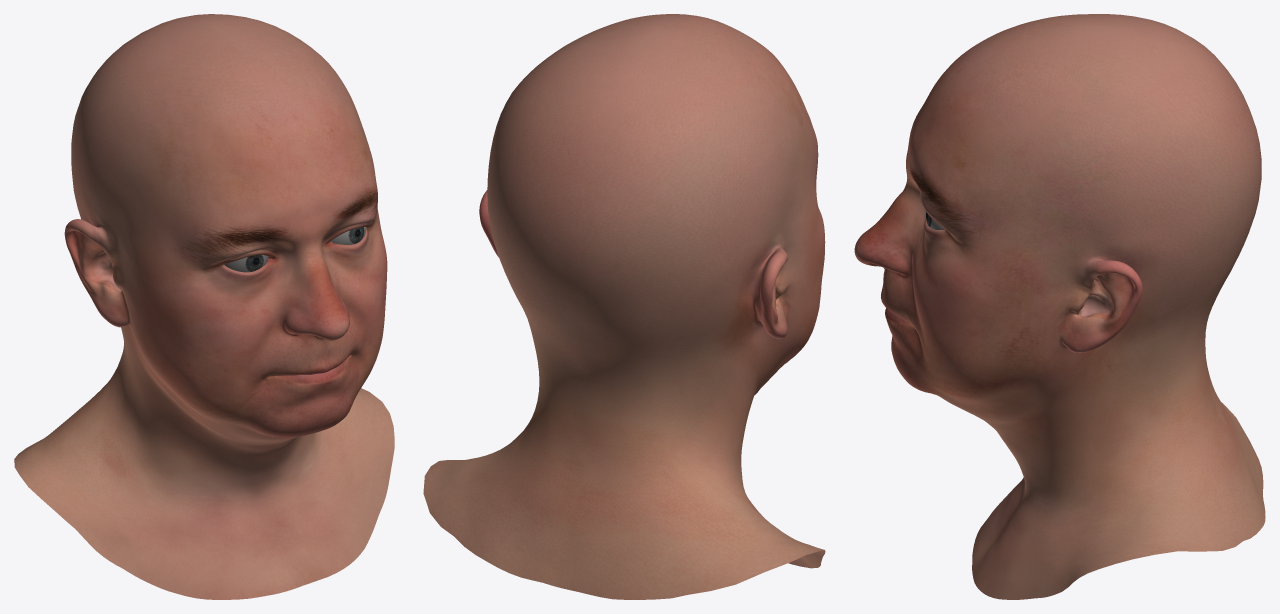
3 renders of one model, left to right at view 1: azimuth 30°, elevation 25°; view 2: azimuth 150°, elevation 25°; view 3: azimuth 270°, elevation 25°, orthographic. The views are drawn at different scales.
Parts seen in each view (by area): view 1: Registered head, right eye; view 2: Registered head; view 3: Registered head.
Boxes of the visible parts, x1,y1,x2,y2 form: Registered head: (14,14,394,599); right eye: (224,254,268,272); Registered head: (423,14,825,599); Registered head: (854,14,1265,599).
Bounding box in the file's own units: 1.3 × 1.82 × 1.26.
Materials: 3 (3 with a texture image).
